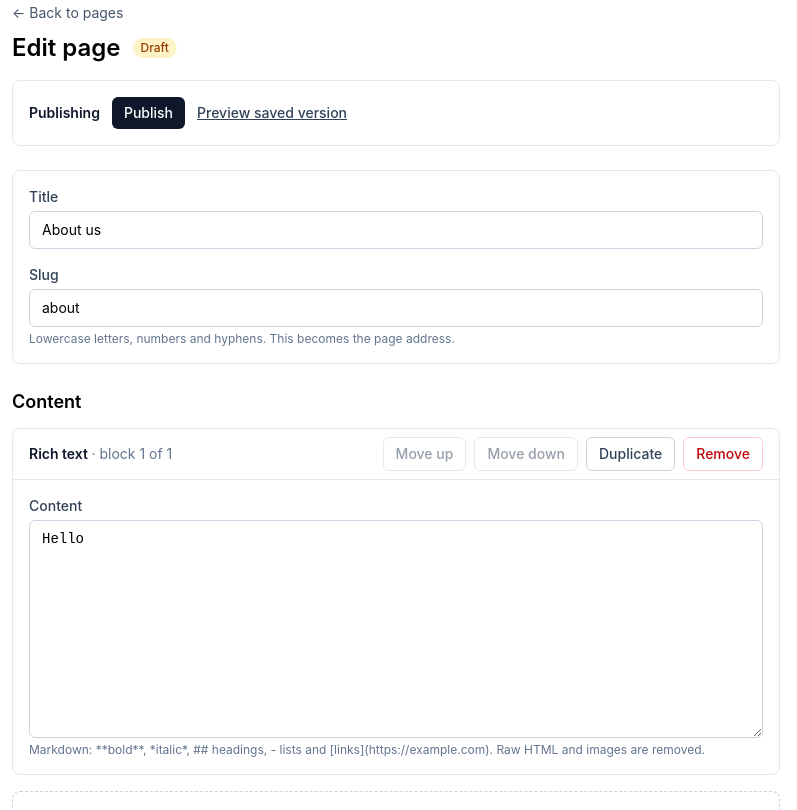
PageFormView publishing › asks to save first when there are unsaved changes
This screenshot has width=797, height=810.
Check: the button with test id "publish" is enabled, box 112,97 -> 185,129
Replace the text in the field labelled "Title" with "Changed": (396, 230) 29,211 -> 763,249
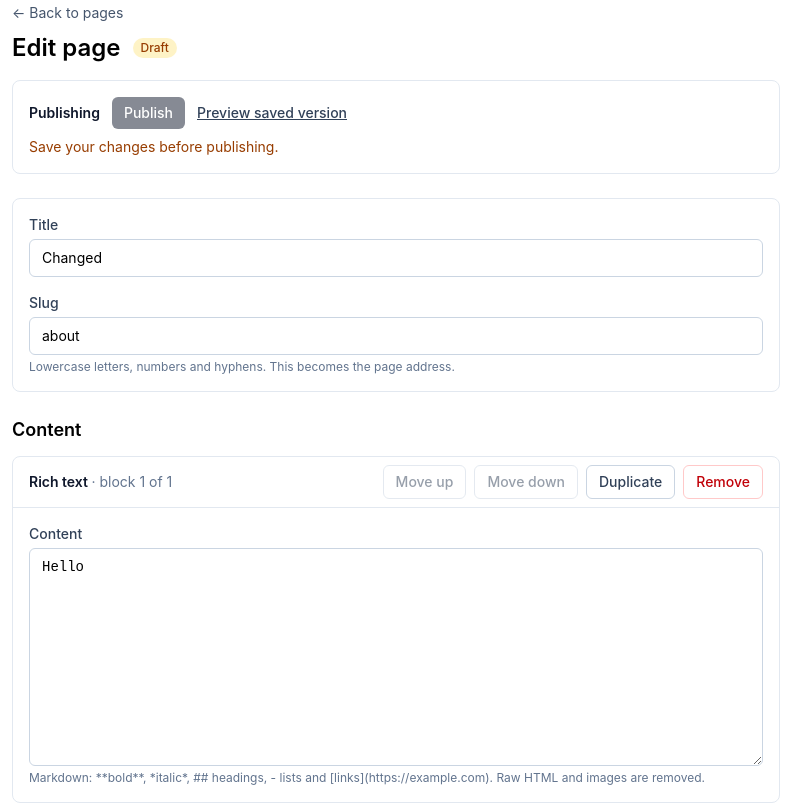
Check: the button with test id "publish" is disabled, box 112,97 -> 185,129
Check: the text "Save your changes before publishing." is shown, box 29,138 -> 278,155
